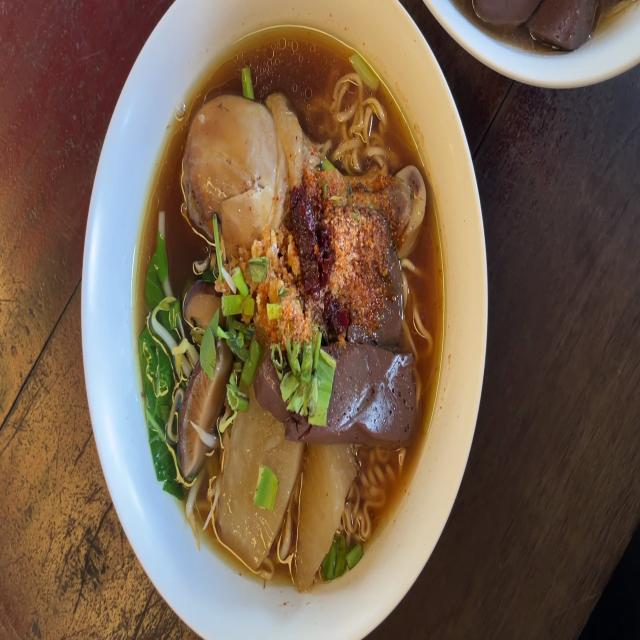noodle: (132, 9, 453, 594)
